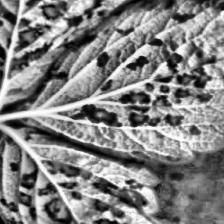Angular Leafspot: (10, 0, 224, 165), (0, 0, 185, 127), (0, 121, 175, 224)
